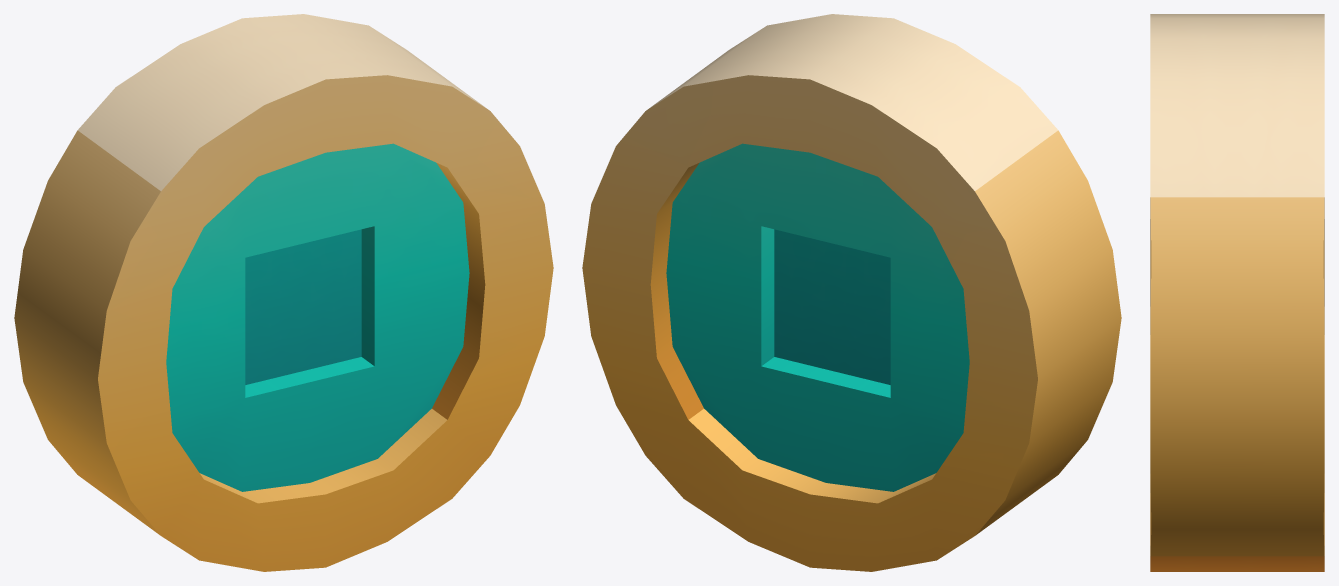
File: Coin.fbx
The picture shows the model from 3 angles, left to right: view 1: azimuth 30°, elevation 25°; view 2: azimuth 150°, elevation 25°; view 3: azimuth 270°, elevation 25°; orthographic projection. The views are drawn at different scales.
Visible parts, largest first — view 1: pCube2; view 2: pCube2; view 3: pCube2.
Boxes of the visible parts, box(x1,y1,x2,y2) form: pCube2: box(14, 14, 553, 571); pCube2: box(582, 14, 1121, 571); pCube2: box(1150, 14, 1324, 571).
Bounding box in the file's own units: 37.81 × 38.7 × 12.
